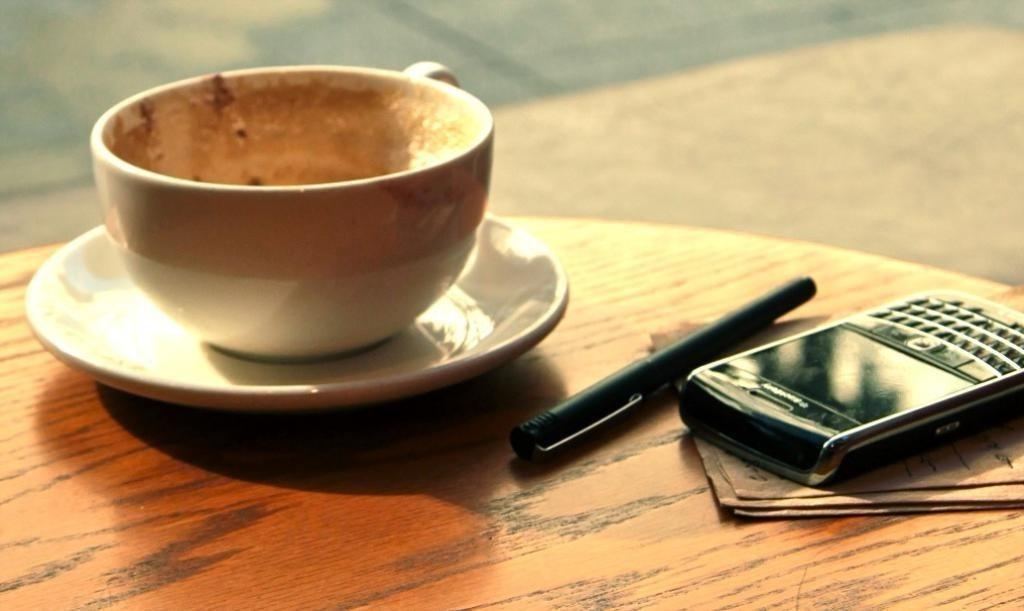cup-handle: (89, 54, 493, 360)
